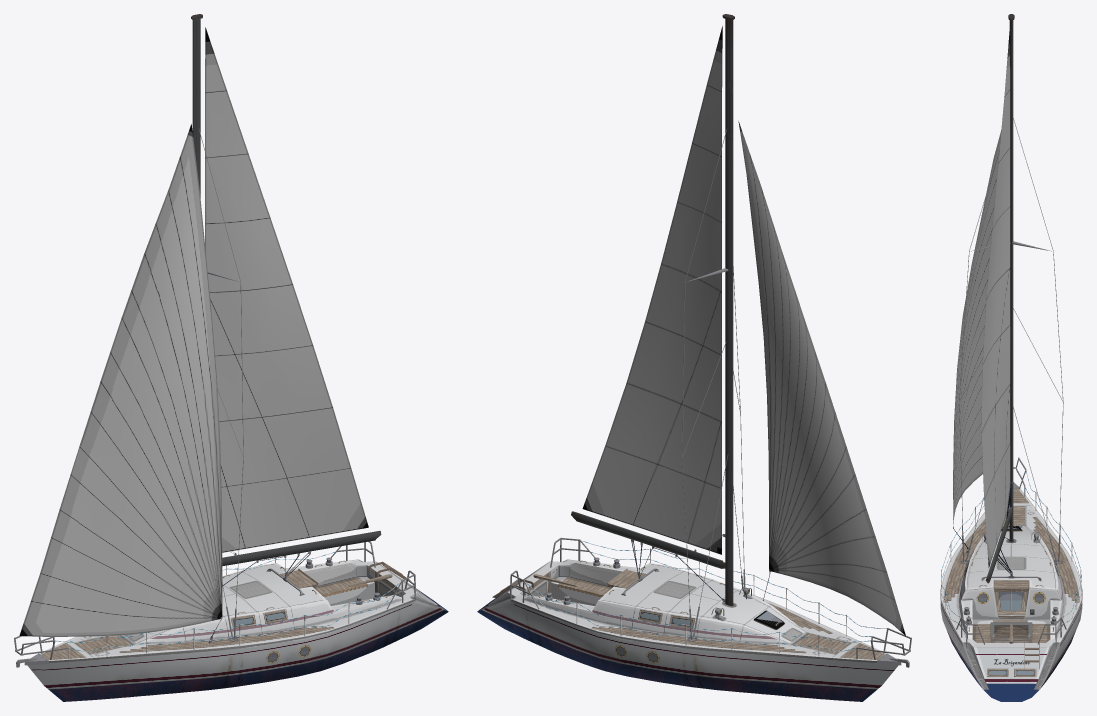
The model's file is sailing boat PZ with sails.fbx.
3 views of the same model, side by side, from view 1: azimuth 30°, elevation 25°; view 2: azimuth 150°, elevation 25°; view 3: azimuth 270°, elevation 25° (orthographic). The views are drawn at different scales.
Parts seen in each view (by area): view 1: sailing_yacht_Cube; view 2: sailing_yacht_Cube; view 3: sailing_yacht_Cube.
Part boxes in pixels (x1,y1,x2,y2): sailing_yacht_Cube: [14, 14, 448, 701]; sailing_yacht_Cube: [477, 14, 911, 701]; sailing_yacht_Cube: [940, 14, 1082, 701].
Size of the model in its own units: 1001 by 1473 by 325.
1 material, 1 textured.
